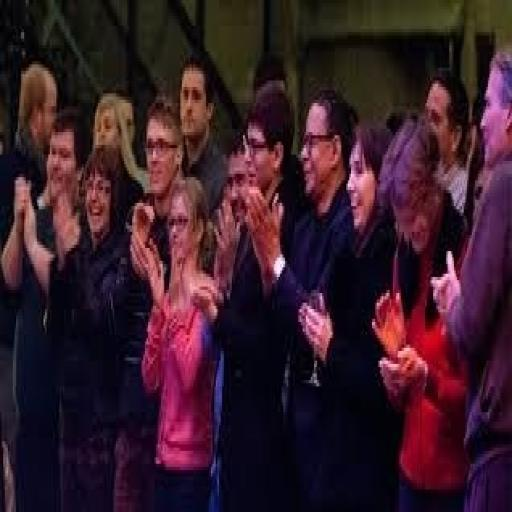clapping: (2, 48, 508, 506)
